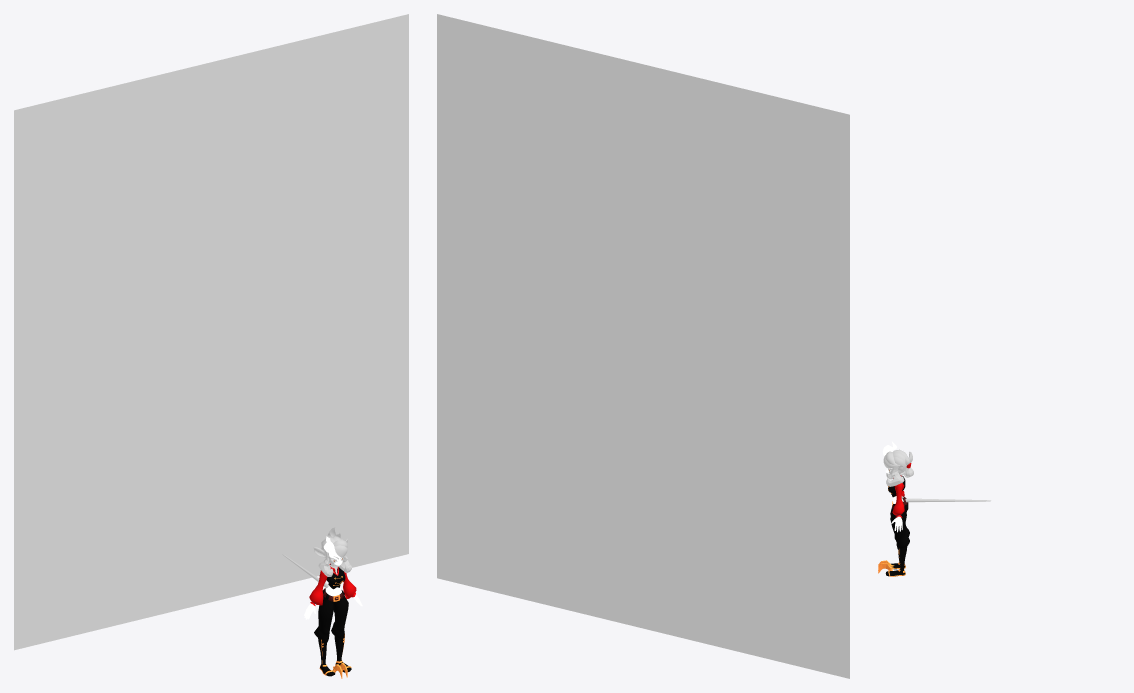
3 views of the same model, side by side, from view 1: azimuth 30°, elevation 25°; view 2: azimuth 150°, elevation 25°; view 3: azimuth 270°, elevation 25° (orthographic). The views are drawn at different scales.
Parts seen in each view (by area): view 1: Backdrop, SylviaBase.003; view 2: Backdrop; view 3: SylviaBase.003.
Boxes of the visible parts, box(x1,y1,x2,y2) form: Backdrop: box(14, 14, 408, 650); SylviaBase.003: box(282, 527, 362, 678); Backdrop: box(437, 14, 849, 678); SylviaBase.003: box(878, 441, 990, 576).
Size of what is drawn, in the model's own units: 5.17 by 6.75 by 3.02.
